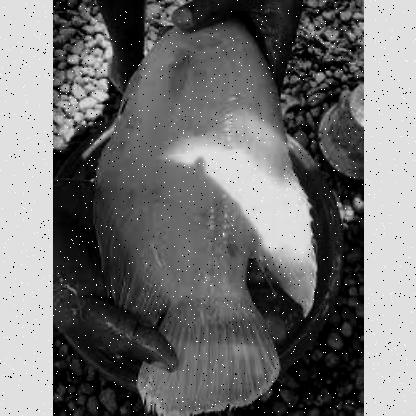gurame: (98, 4, 310, 416)
